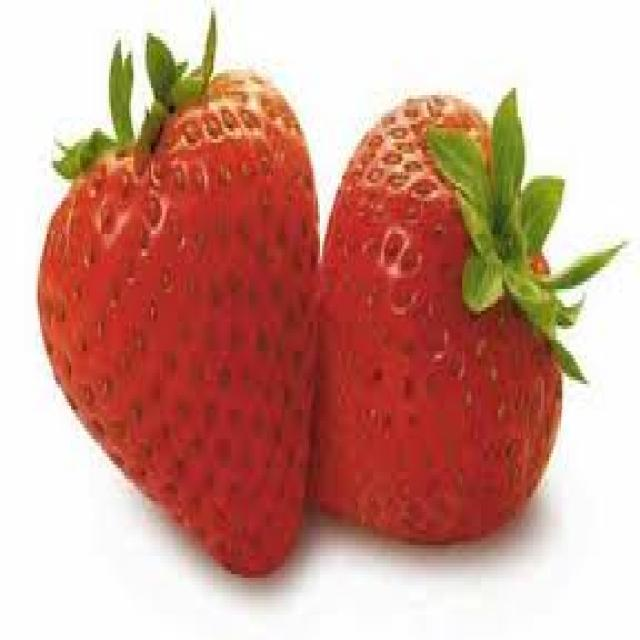organic waste: (35, 4, 318, 578), (306, 84, 626, 545)
